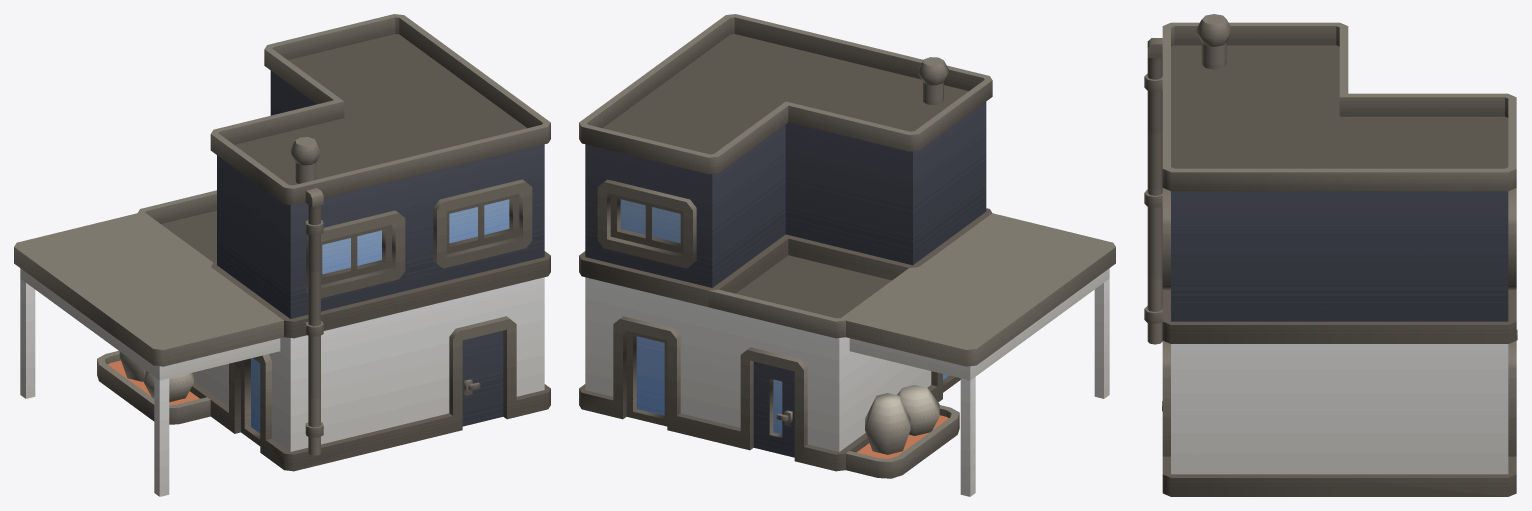
Rendered from sub-building-type-q.glb.
The picture shows the model from 3 angles, left to right: view 1: azimuth 30°, elevation 25°; view 2: azimuth 150°, elevation 25°; view 3: azimuth 270°, elevation 25°; orthographic projection. The views are drawn at different scales.
Visible parts, largest first — view 1: building-type-q; view 2: building-type-q; view 3: building-type-q.
Part boxes in pixels (x1,y1,x2,y2): building-type-q: (14,14,550,496); building-type-q: (579,14,1115,496); building-type-q: (1144,14,1517,496).
Size of the model in its own units: 1.24 by 0.918 by 0.8856.
1 material, 1 textured.
